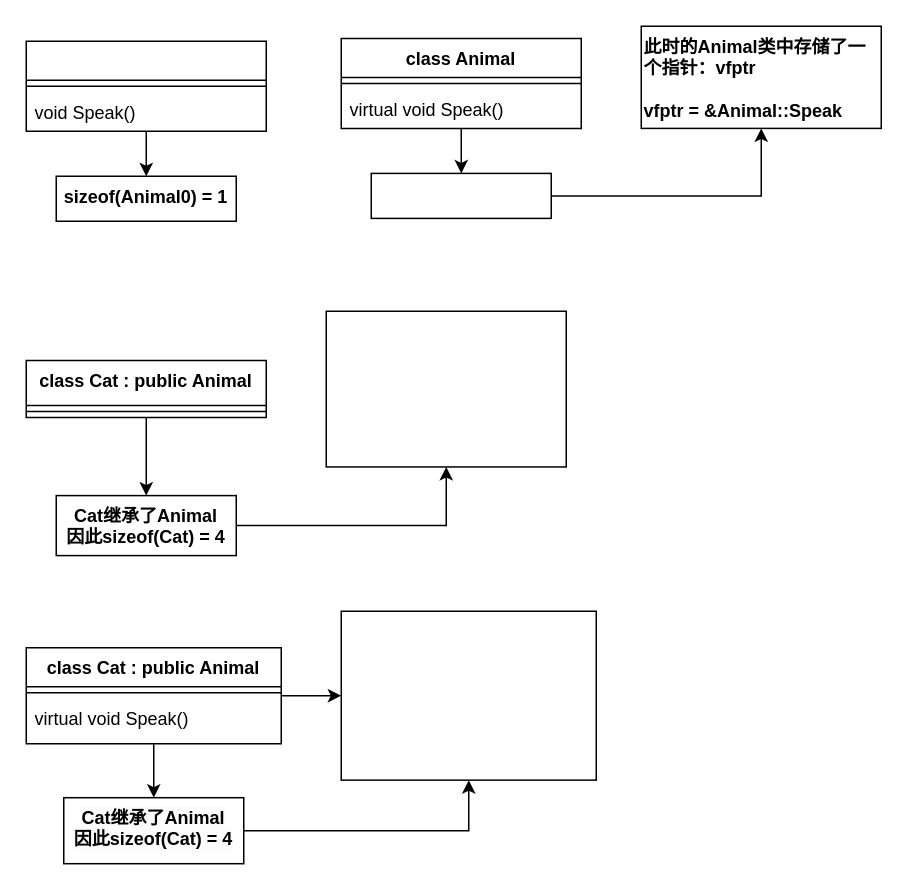
Image size: 908x891. Some labels were removed from this diagram. Here are the shapes that lost their labels. From the top down, the box of each, then its label:
(25, 40, 266, 131): class Animal0
(370, 172, 551, 218): sizeof(Animal) = 4
(325, 310, 566, 467): 此时的Cat类继承了Animal的结构 存储了一个指针：vfptr vfptr = &Animal::Speak
(340, 610, 596, 780): 此时的Cat类继承了Animal的结构，但在子类中重写了Speak 因此vfptr改为存储重写了的Speak函数的地址 vfptr = &Cat::Speak
